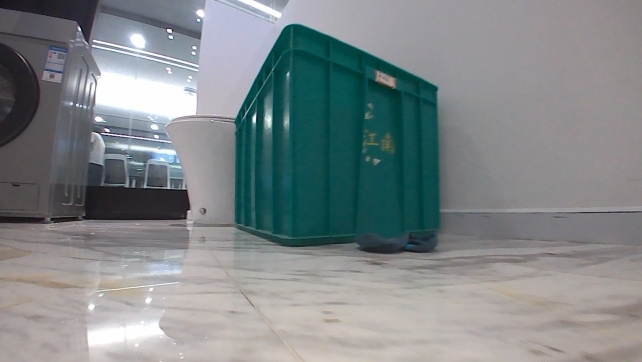socks: (351, 230, 438, 256)
toilet: (164, 111, 237, 226)
washing_machine: (0, 6, 103, 224)
